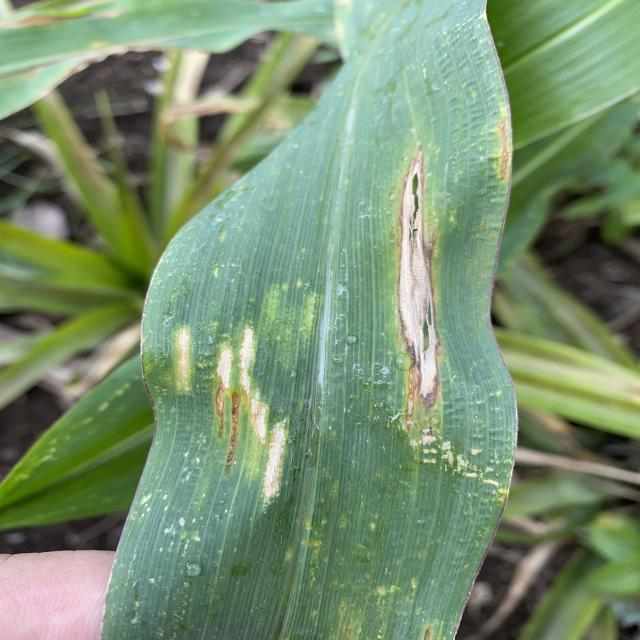Corn_Leaf_Blight: (103, 71, 518, 640)
